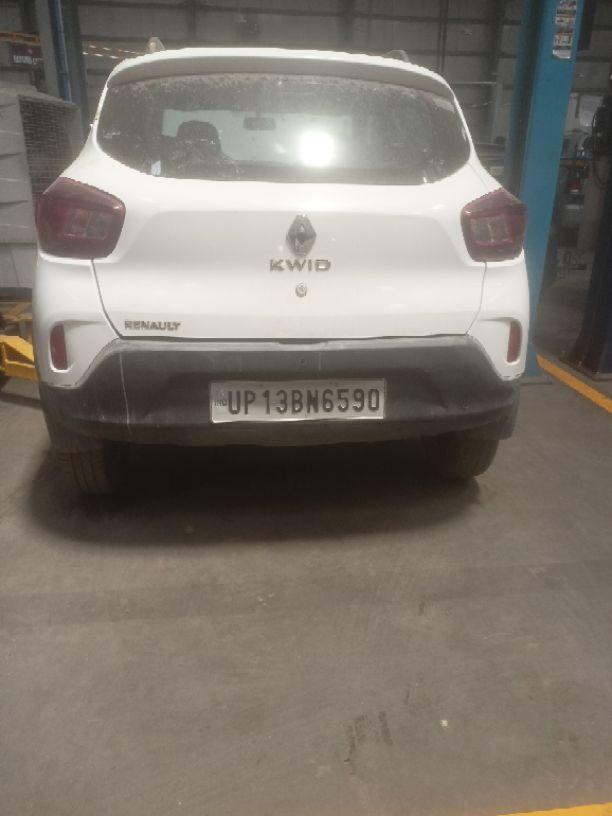license_plate: (207, 376, 387, 423)
